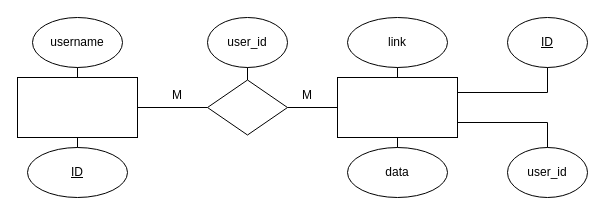
This 605x215 diagram has some shape labels left out. Here are the shapes that lost their labels. From the top down, the centre of each, then its label:
At point (77, 107): "user".
At point (247, 107): "has".
At point (397, 107): "videos".
